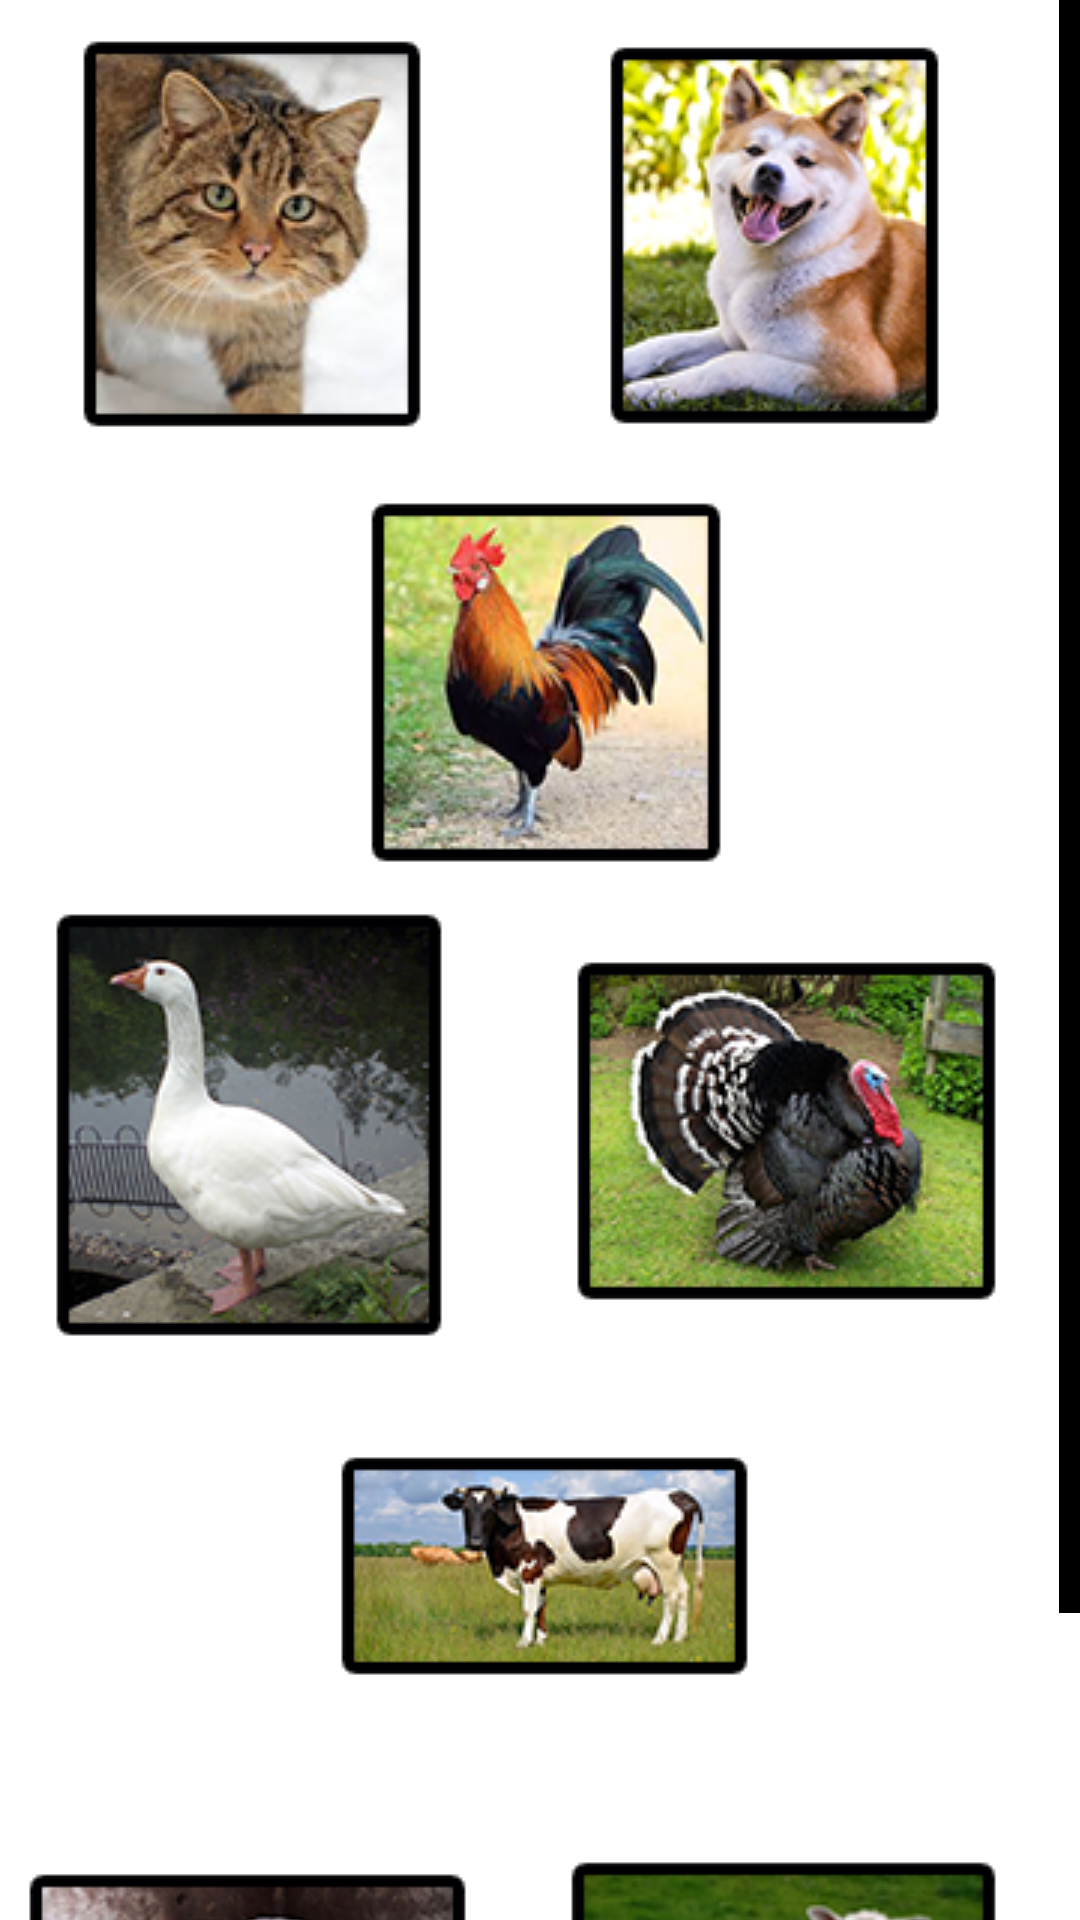

Point at icon controls on the screen. Image size 1080×1920, points as [x,y].
petyx: [546,682]
